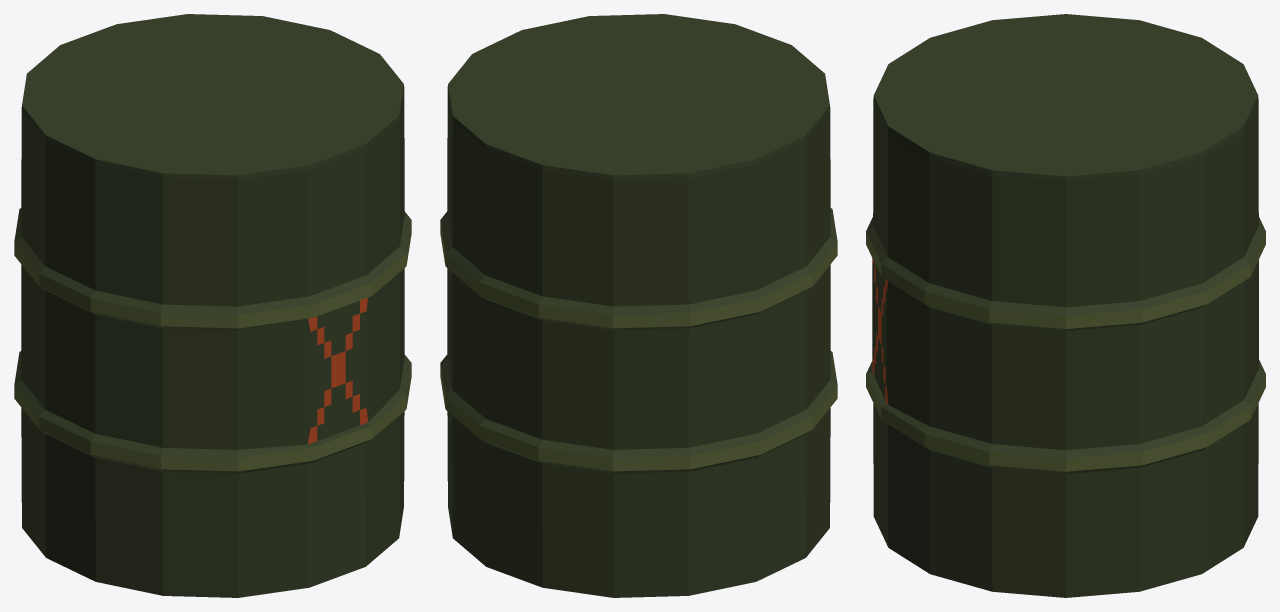
The model's file is barrel_1.fbx.
3 views of the same model, side by side, from view 1: azimuth 30°, elevation 25°; view 2: azimuth 150°, elevation 25°; view 3: azimuth 270°, elevation 25° (orthographic).
Parts seen in each view (by area): view 1: Cylinder.002; view 2: Cylinder.002; view 3: Cylinder.002.
Part boxes in pixels (<box>): Cylinder.002: <box>14,14,411,597</box>; Cylinder.002: <box>440,14,837,597</box>; Cylinder.002: <box>866,14,1265,597</box>.
Bounding box in the file's own units: 84.67 × 98.47 × 84.67.
